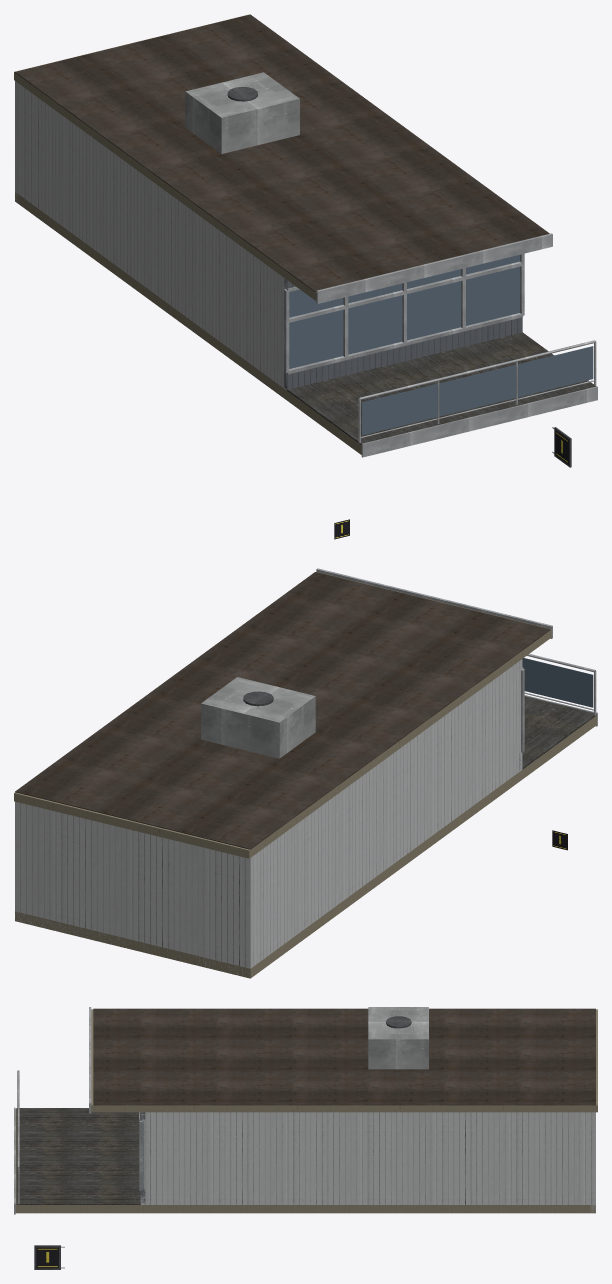
Rendered from pit_upper.glb.
The picture shows the model from 3 angles, top to bottom: view 1: azimuth 30°, elevation 25°; view 2: azimuth 150°, elevation 25°; view 3: azimuth 270°, elevation 25°; orthographic projection. The views are drawn at different scales.
Visible parts, largest first — view 1: pit_upper; view 2: pit_upper; view 3: pit_upper.
Boxes of the visible parts, x1,y1,x2,y2 form: pit_upper: (14,14,597,539); pit_upper: (14,568,597,978); pit_upper: (14,1007,597,1269).
Size of the model in its own units: 6.08 by 6.64 by 15.39.
12 materials, 11 textured.
